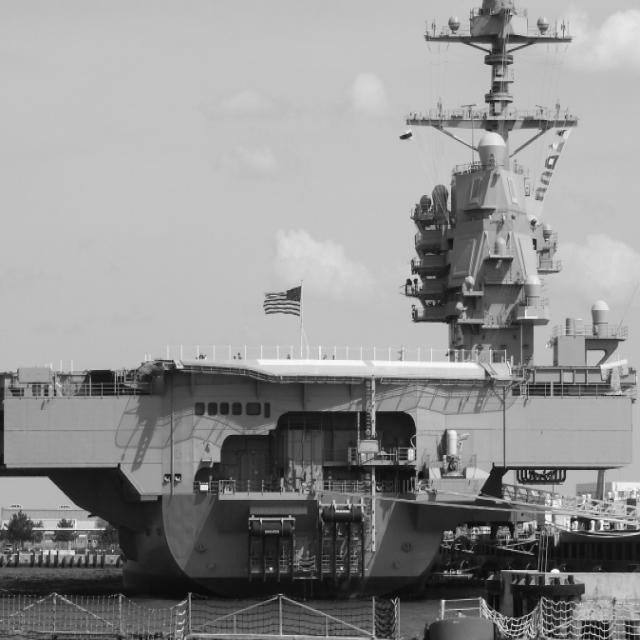Portanaves: (1, 1, 640, 600)
